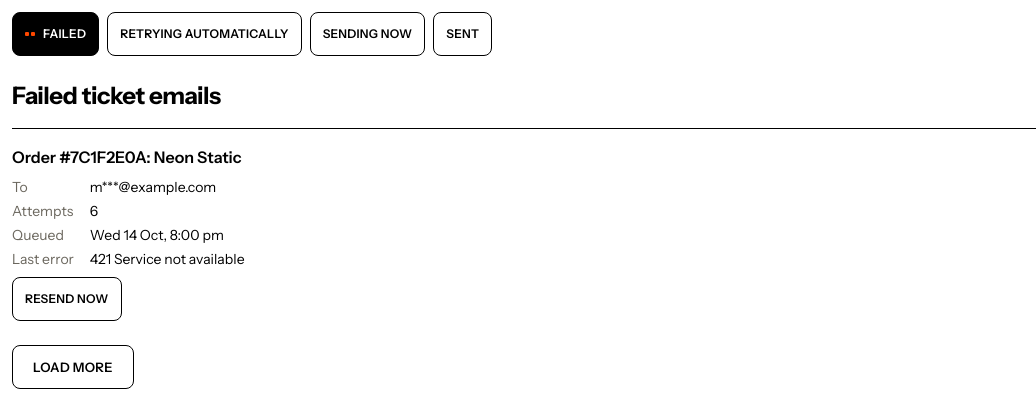
Scenario: EmailOutbox › a Load more answering after the filter changed doesn't replace the new list
The image size is (1036, 406).
Check: the heading "Order #7C1F2E0A: Neon Static" is shown, box [12,147,242,167]
Click the button "Load more". click: (73,367)
box: [12,345,134,389]
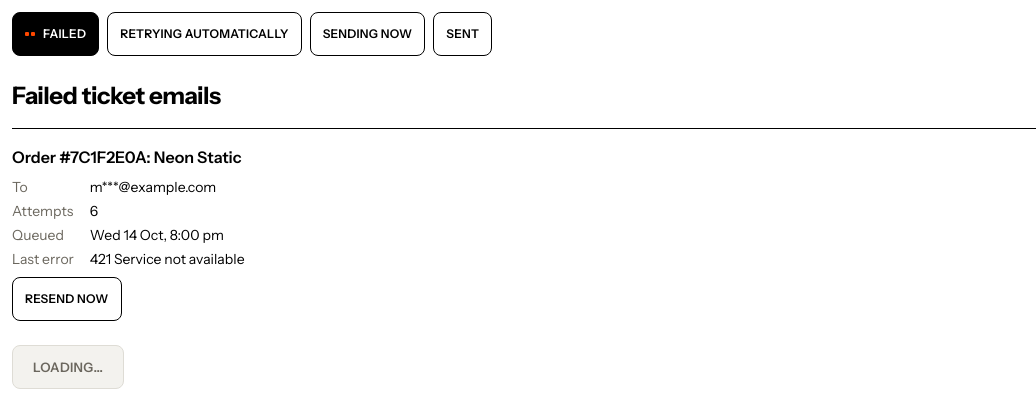
Click the button "Sent". click: (463,34)
box: [433,12,492,56]
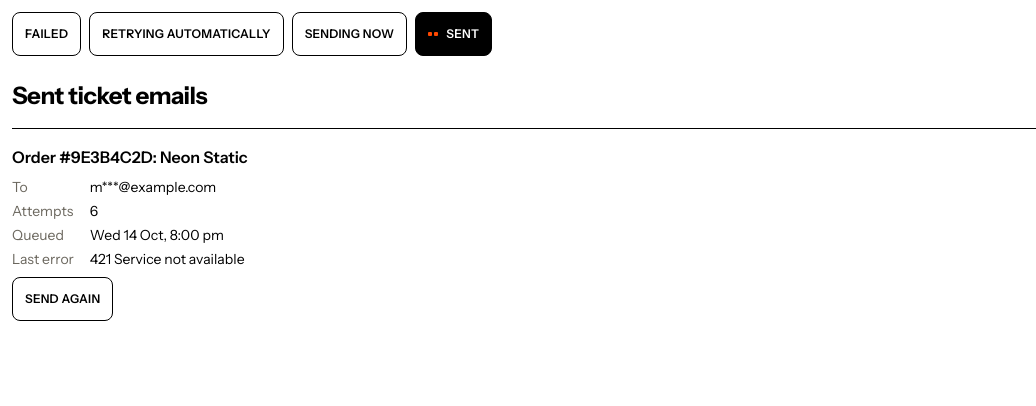
Check: the heading "Sent ticket emails" is shown, box [12,81,207,110]
Check: the heading "Order #9E3B4C2D: Neon Static" is shown, box [12,147,248,167]
Check: the heading "Order #7C1F2E0A: Neon Static" is gone
